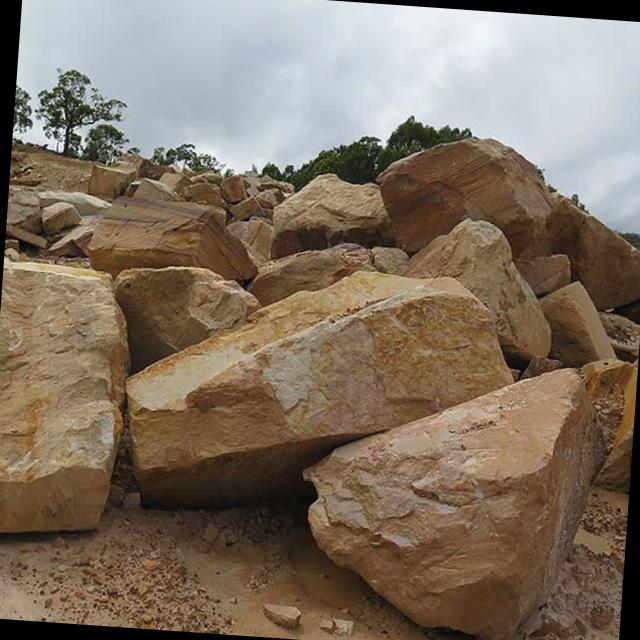red-sand: (0, 493, 466, 640), (9, 141, 93, 191)
rocks: (5, 138, 640, 489), (126, 272, 510, 505), (303, 369, 605, 640), (0, 260, 128, 532)
stone: (127, 272, 510, 505), (303, 369, 604, 640), (375, 138, 640, 307), (0, 258, 128, 532), (405, 219, 549, 360), (115, 267, 258, 373), (88, 197, 255, 280), (271, 174, 395, 256), (247, 246, 374, 305), (538, 282, 615, 366), (516, 254, 569, 296), (227, 217, 270, 264), (5, 192, 43, 244), (36, 190, 110, 216), (229, 188, 282, 219), (87, 165, 132, 199), (47, 226, 91, 256), (41, 202, 79, 236), (125, 177, 175, 201), (184, 182, 221, 206), (158, 172, 188, 193)
